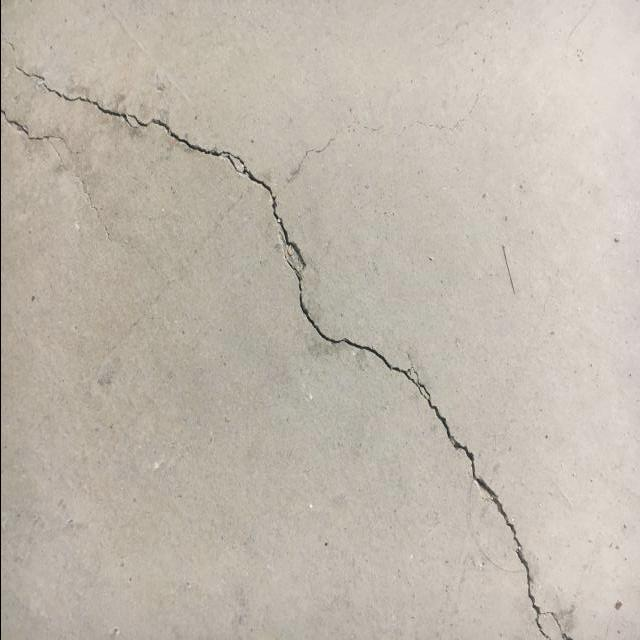SurfaceCrack: (1, 5, 638, 640)
